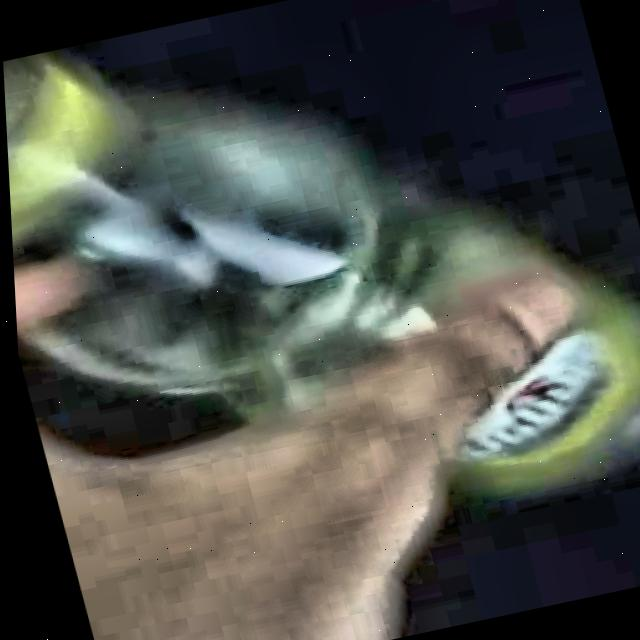plastic: (2, 53, 497, 420), (512, 324, 640, 475)
